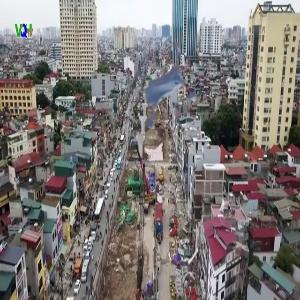drone: (116, 51, 216, 151)
